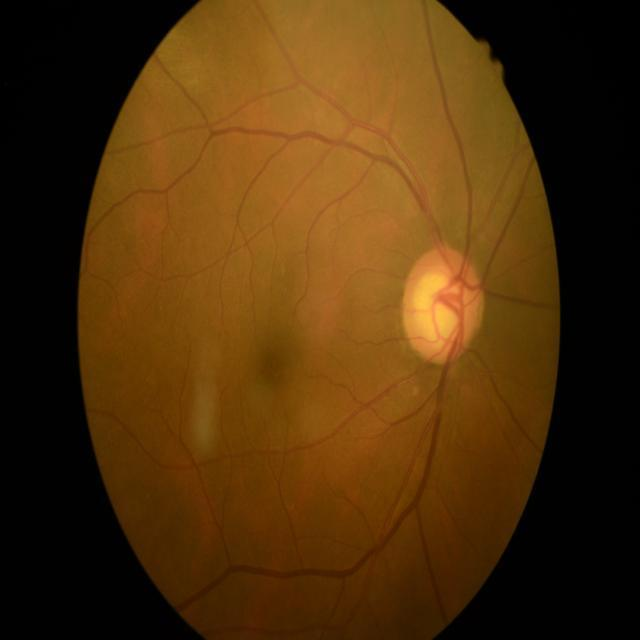cup: (414, 268, 470, 352)
disk: (402, 244, 484, 367)
